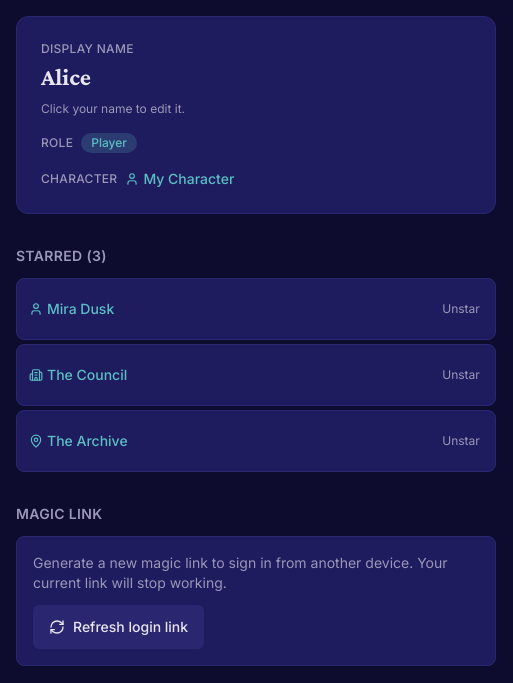
ProfilePage — starred objects › unstar button removes item optimistically
Check: the text "Mira Dusk" is shown, box [47,299,114,319]
Note: Find the unstar button for Mira Dusk
Click the button with aria-label "remove mira dusk" at (461, 309), box [439,287,483,331]
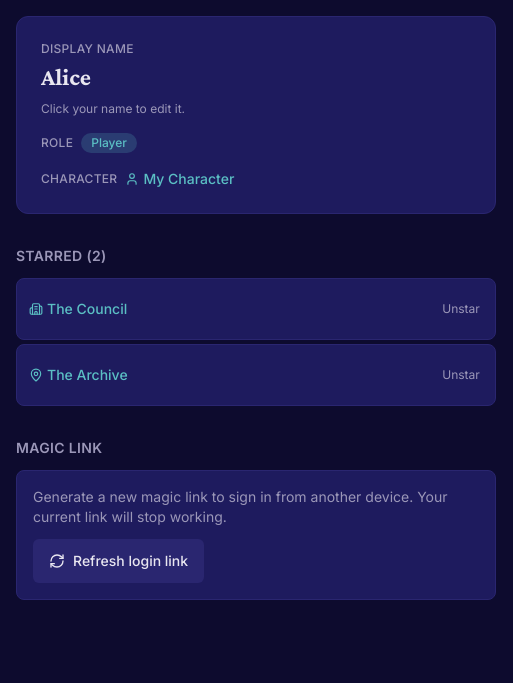
Check: the link "Mira Dusk" is gone
